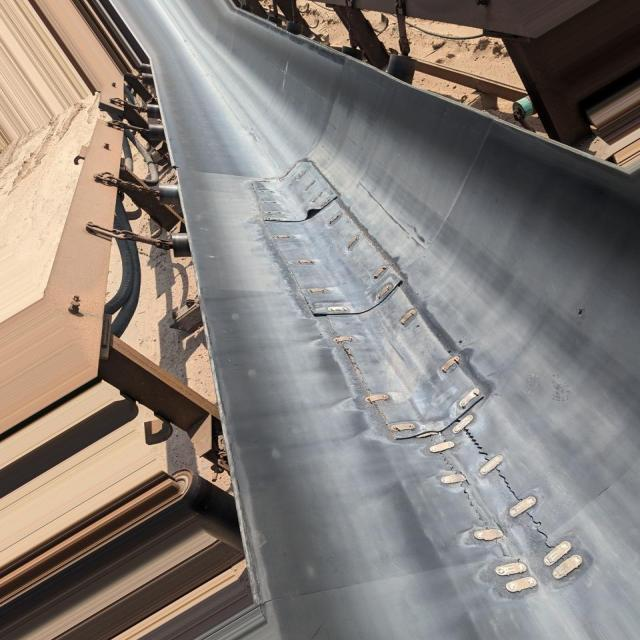patch work: (244, 160, 593, 603)
